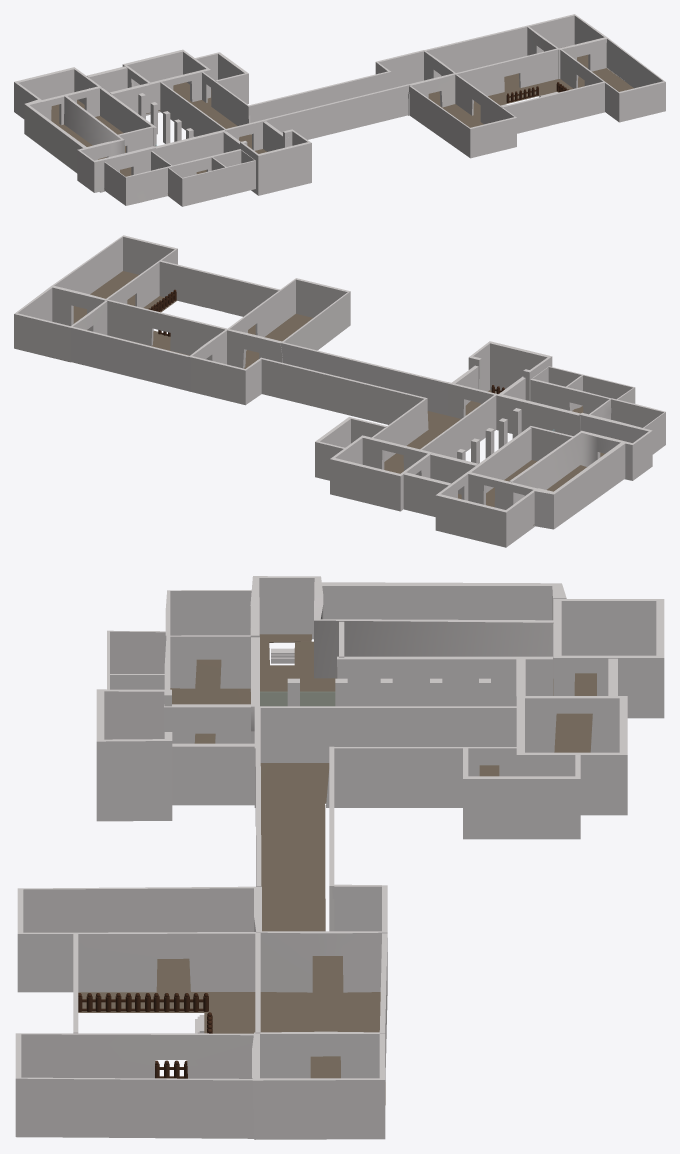
File: first.glb
The picture shows the model from 3 angles, top to bottom: view 1: azimuth 30°, elevation 25°; view 2: azimuth 150°, elevation 25°; view 3: azimuth 270°, elevation 25°; orthographic projection. The views are drawn at different scales.
Visible parts, largest first — view 1: Box220, Box243, Box244, Box226, Box219, room 030, Room033, Box246, Room 044, Courtyard002, Room032, Box224 (+11 smaller); view 2: Box220, Box243, Room033, Box219, Box244, Room032, Box242, Box246, Box226, room 030, Box224, Courtyard002 (+11 smaller); view 3: Box226, Box244, room 030, Floor003, Box246, Box219, Floor005, Room033, Room 044, Courtyard002, Room032, Box242 (+10 smaller).
Boxes of the visible parts, x1,y1,x2,y2 form: Box220: (247, 71, 409, 139); Box243: (456, 48, 604, 133); Box244: (409, 74, 516, 158); Box226: (560, 37, 665, 122); Box219: (64, 95, 155, 192); room 030: (160, 72, 268, 150); Room033: (14, 67, 102, 124); Box246: (527, 14, 607, 78); Room 044: (240, 129, 311, 195); Courtyard002: (100, 88, 226, 165); Room032: (122, 49, 210, 112); Box224: (425, 25, 527, 77); Box220: (259, 342, 448, 430); Box243: (106, 260, 280, 359); Room033: (435, 471, 537, 547); Box219: (509, 412, 652, 502); Box244: (228, 278, 350, 350); Room032: (330, 435, 432, 511); Box242: (189, 328, 282, 405); Box246: (14, 286, 107, 362); Box226: (51, 235, 177, 307); room 030: (372, 382, 497, 461); Box224: (70, 326, 190, 391); Courtyard002: (468, 393, 580, 492); Box226: (15, 1033, 256, 1138); Box244: (17, 886, 255, 992); room 030: (254, 706, 516, 807); Floor003: (170, 634, 596, 931); Box246: (252, 1031, 385, 1139); Box219: (250, 576, 553, 691); Floor005: (78, 956, 385, 1104); Room033: (553, 599, 664, 718); Room 044: (96, 689, 172, 821); Courtyard002: (251, 637, 552, 743); Room032: (516, 696, 627, 815); Box242: (254, 884, 387, 992).
Size of the model in its own units: 3.29 by 0.2673 by 1.8.
